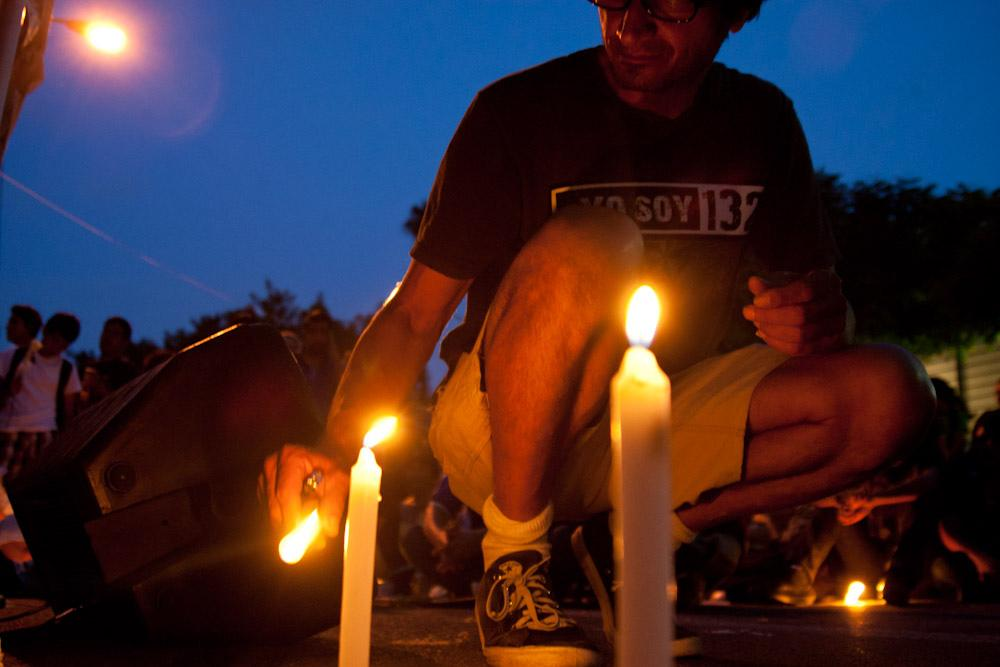fire: (277, 515, 327, 562), (627, 293, 655, 348), (365, 418, 403, 445)
